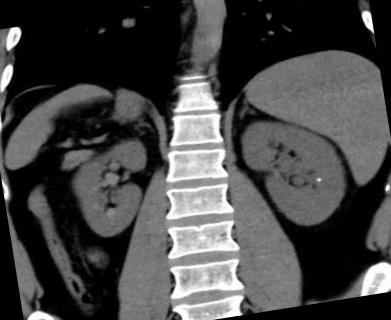Tas_Var: (310, 173, 326, 184)
